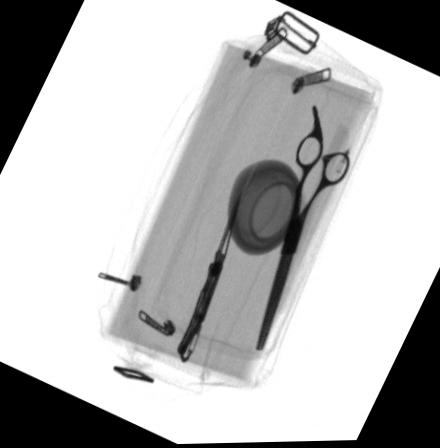Knife: (174, 195, 239, 365)
Scissors: (253, 104, 349, 352)
